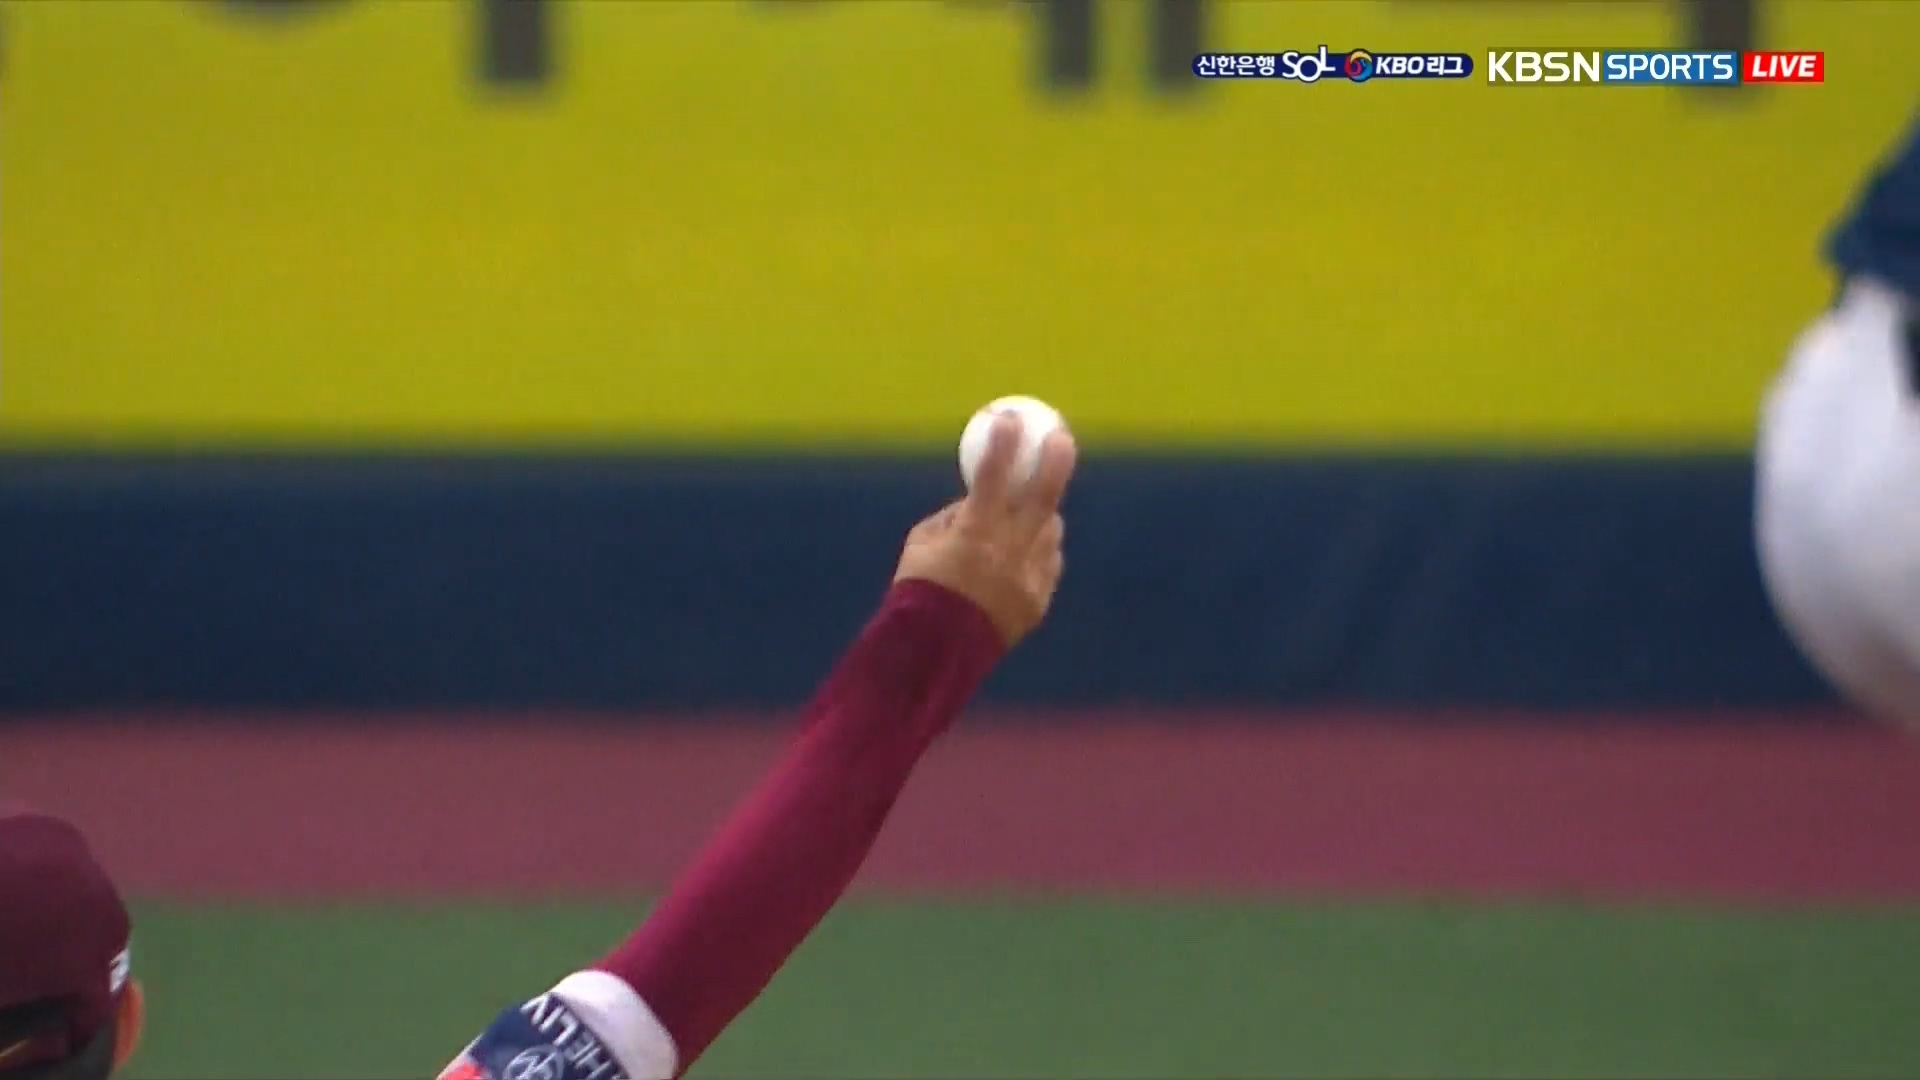zoomin_hand: (673, 364, 1113, 1000)
